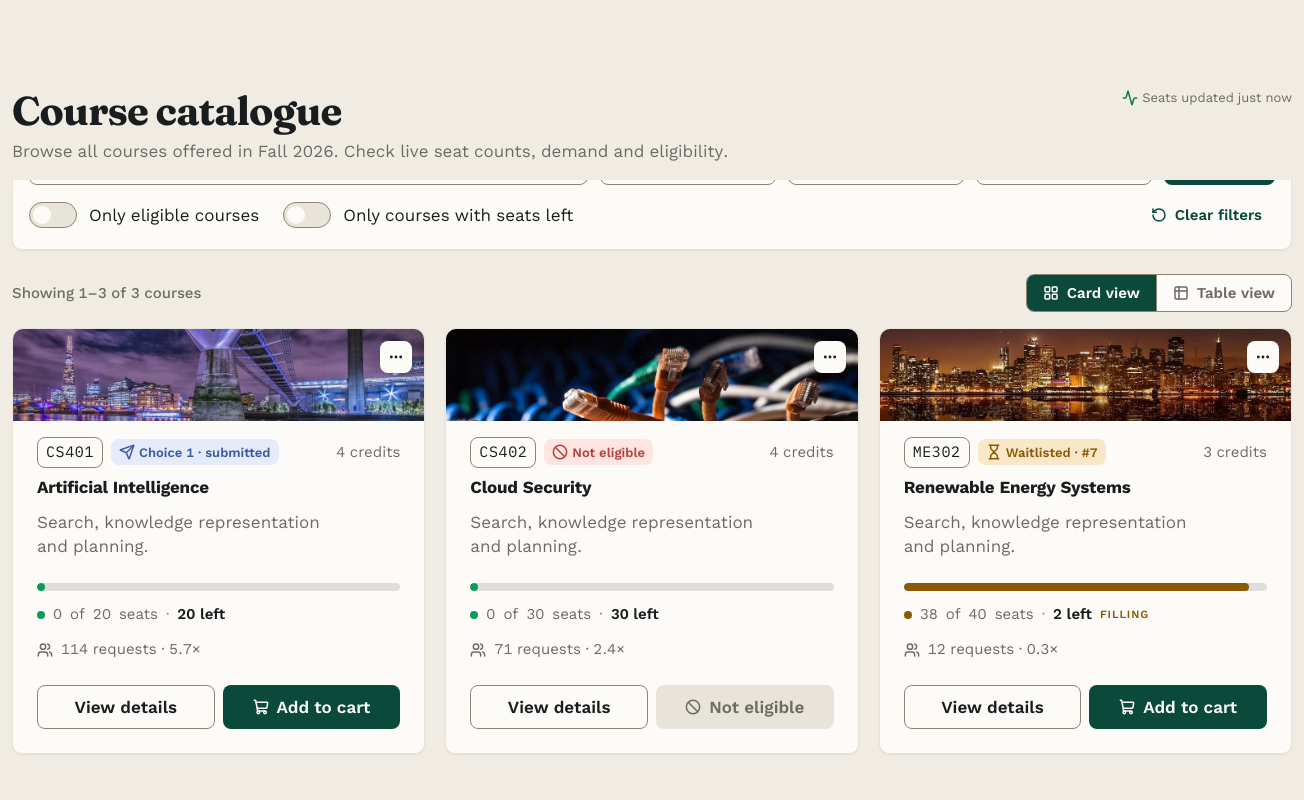
Scenario: adding to the cart from the catalogue › adds from a card through the list’s single delegated listener
Expected: the heading "Showing 1–3 of 3 courses" is shown, x1=12 y1=285 x2=202 y2=302
Click the button "Add to cart" below "114 requests · 5.7×" at (312, 708), box x1=223 y1=686 x2=400 y2=730
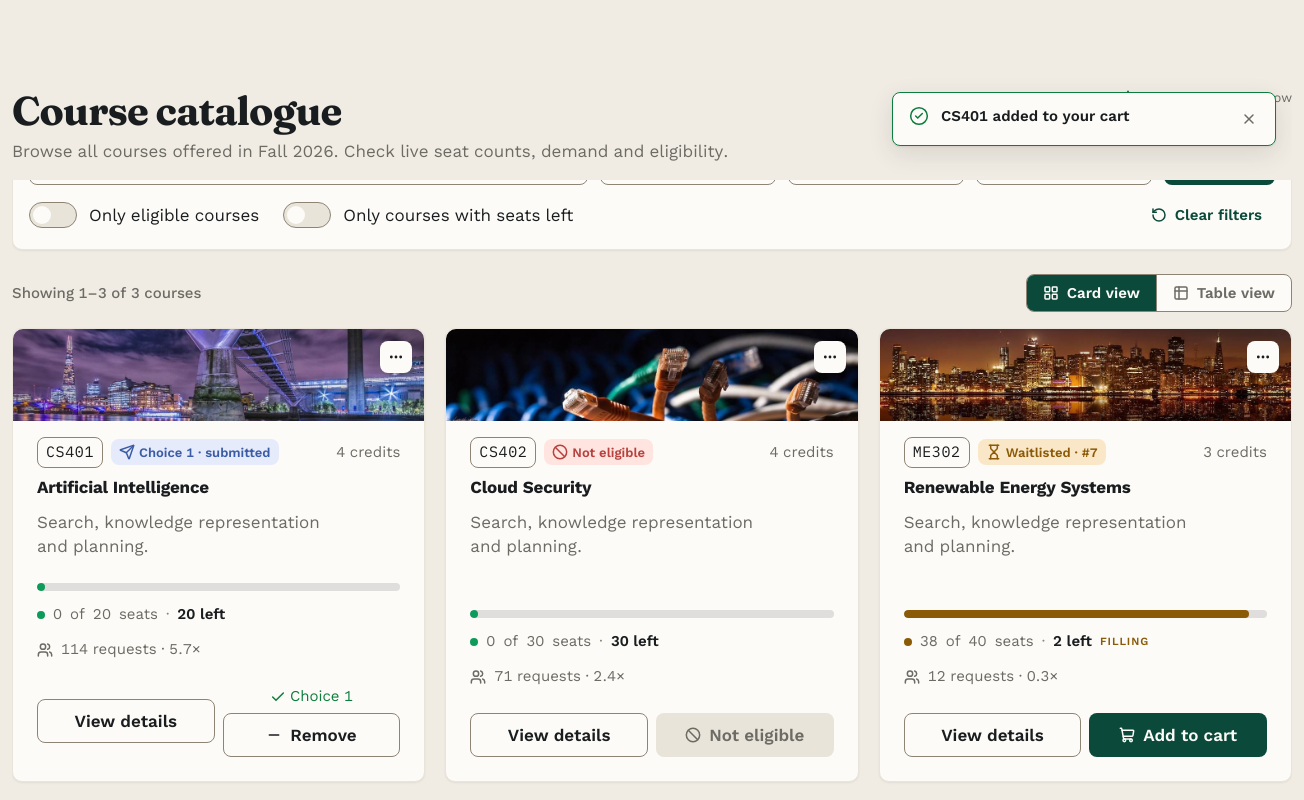
Expected: the text "CS401 added to your cart" is shown, x1=941 y1=107 x2=1129 y2=125
